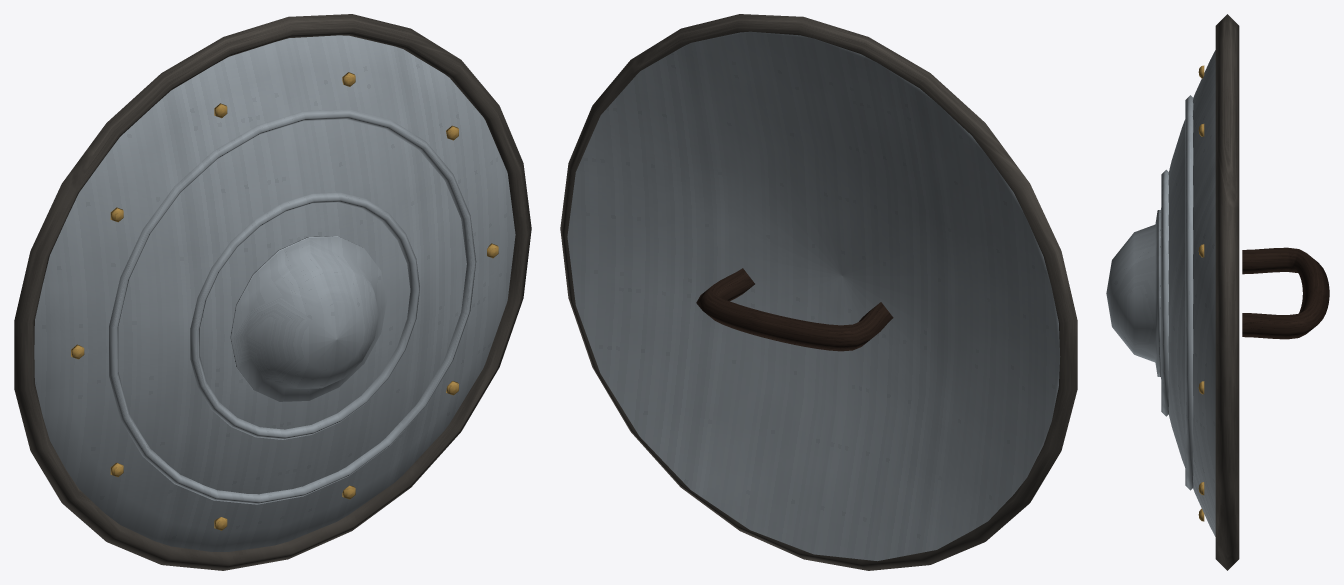
The model's file is buckler.lod1.glb.
The picture shows the model from 3 angles, left to right: view 1: azimuth 30°, elevation 25°; view 2: azimuth 150°, elevation 25°; view 3: azimuth 270°, elevation 25°; orthographic projection. The views are drawn at different scales.
Visible parts, largest first — view 1: steel / forged blade steel, iron / hammer-scaled wrought iron, brass / polished brass furniture; view 2: steel / forged blade steel, iron / hammer-scaled wrought iron, leather / oiled leather wrap; view 3: steel / forged blade steel, iron / hammer-scaled wrought iron, leather / oiled leather wrap, brass / polished brass furniture.
Part boxes in pixels (x1,y1,x2,y2): steel / forged blade steel: [34, 35, 515, 551]; iron / hammer-scaled wrought iron: [14, 14, 531, 570]; brass / polished brass furniture: [71, 72, 498, 530]; steel / forged blade steel: [567, 31, 1060, 561]; iron / hammer-scaled wrought iron: [560, 14, 1077, 570]; leather / oiled leather wrap: [696, 268, 893, 351]; steel / forged blade steel: [1106, 50, 1215, 536]; iron / hammer-scaled wrought iron: [1215, 14, 1239, 570]; leather / oiled leather wrap: [1242, 247, 1329, 339]; brass / polished brass furniture: [1198, 65, 1204, 521].
Size of the model in its own units: 0.3745 by 0.3753 by 0.1502.
Materials: 4 (4 with a texture image).
